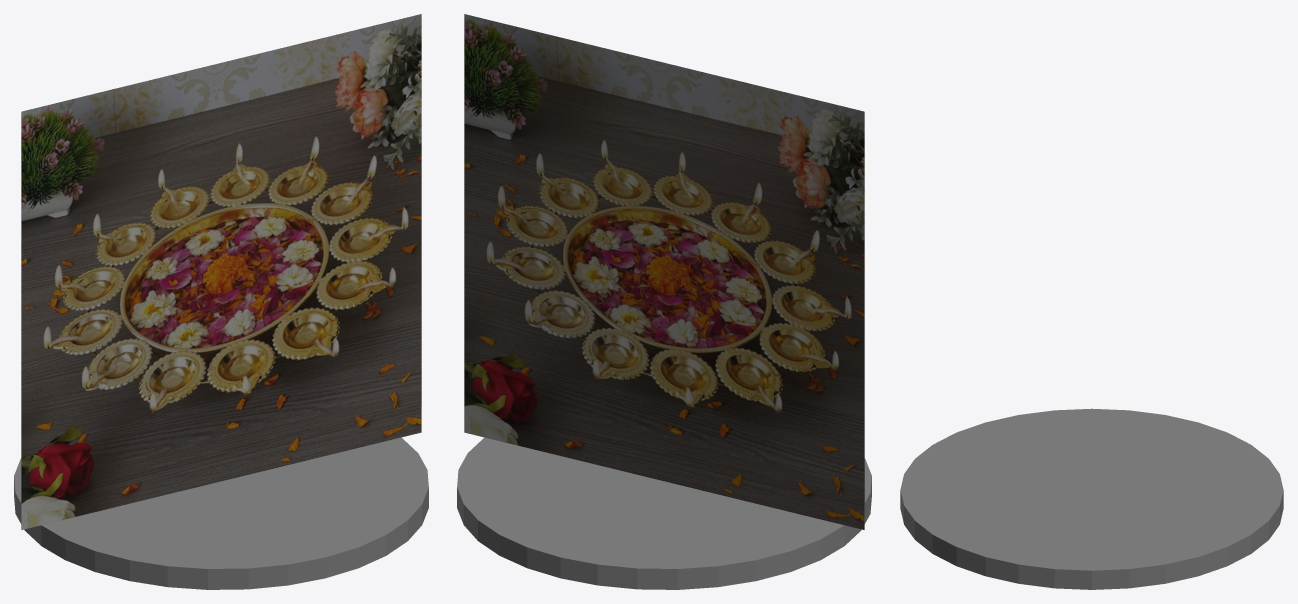
Rendered from B0BCKVS2GL.glb.
3 renders of one model, left to right at view 1: azimuth 30°, elevation 25°; view 2: azimuth 150°, elevation 25°; view 3: azimuth 270°, elevation 25°, orthographic. The views are drawn at different scales.
Visible parts, largest first — view 1: photo, base; view 2: photo, base; view 3: base.
Part boxes in pixels (left/top/right/bottom): photo: left=21, top=14, right=421, bottom=529; base: left=14, top=437, right=428, bottom=589; photo: left=464, top=14, right=864, bottom=529; base: left=457, top=437, right=871, bottom=589; base: left=900, top=408, right=1283, bottom=589.
Bounding box in the file's own units: 0.4 × 0.42 × 0.36.
Materials: 1 (1 with a texture image).
